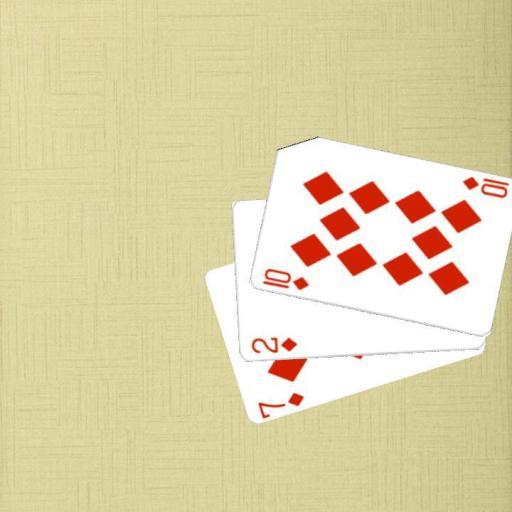10D: (459, 173, 511, 200), (259, 266, 310, 293)
2D: (247, 334, 298, 356)
7D: (255, 390, 306, 418)
